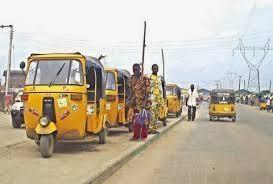keke: (22, 51, 110, 164)
